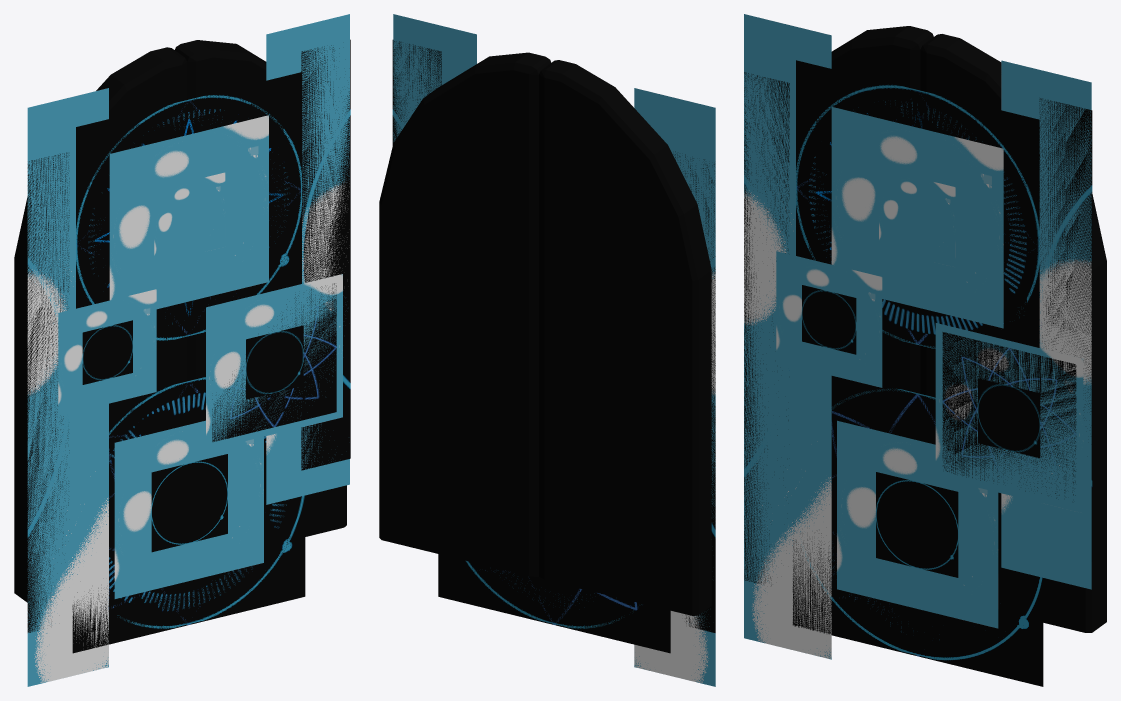
Rendered from Door 1.fbx.
3 views of the same model, side by side, from view 1: azimuth 30°, elevation 25°; view 2: azimuth 150°, elevation 25°; view 3: azimuth 330°, elevation 25° (orthographic). The views are drawn at different scales.
Parts seen in each view (by area): view 1: Plane.016, Plane.003, Plane.004, Plane.017, Plane.008, Plane.009, Plane.001, Plane.019, Cube.001, Plane.013, Plane.018, Plane.006 (+10 smaller); view 2: Cube.001, Cube, Plane.016, Plane.009, Plane.017, Plane.014, Plane.018, Plane.019; view 3: Plane.016, Plane.017, Plane.003, Plane.004, Plane.009, Plane.008, Plane.001, Cube, Plane.015, Plane.019, Plane.006, Plane.012 (+10 smaller).
Boxes of the visible parts, x1,y1,x2,y2 form: Plane.016: [27, 88, 108, 686]; Plane.003: [109, 115, 268, 309]; Plane.004: [76, 72, 301, 343]; Plane.017: [266, 14, 349, 504]; Plane.008: [114, 420, 263, 598]; Plane.009: [94, 377, 305, 645]; Plane.001: [206, 274, 342, 450]; Plane.019: [301, 39, 350, 470]; Cube.001: [14, 47, 187, 602]; Plane.013: [87, 391, 290, 632]; Plane.018: [27, 152, 69, 632]; Plane.006: [58, 289, 156, 415]; Cube.001: [539, 60, 711, 615]; Cube: [379, 52, 551, 576]; Plane.016: [634, 88, 715, 686]; Plane.009: [438, 554, 670, 645]; Plane.017: [393, 14, 476, 141]; Plane.014: [438, 560, 670, 653]; Plane.018: [673, 151, 715, 632]; Plane.019: [392, 40, 441, 145]; Plane.016: [744, 14, 831, 659]; Plane.017: [1001, 60, 1091, 589]; Plane.003: [831, 107, 1003, 328]; Plane.004: [796, 60, 1039, 348]; Plane.009: [792, 378, 1043, 685]; Plane.008: [837, 420, 998, 628]; Plane.001: [935, 323, 1083, 512]; Cube: [920, 34, 1106, 632]; Plane.015: [942, 332, 1076, 498]; Plane.019: [1039, 98, 1092, 561]; Plane.006: [776, 251, 882, 387]; Plane.012: [808, 77, 1026, 344].
Bounding box in the file's own units: 174 × 307 × 16.68.
